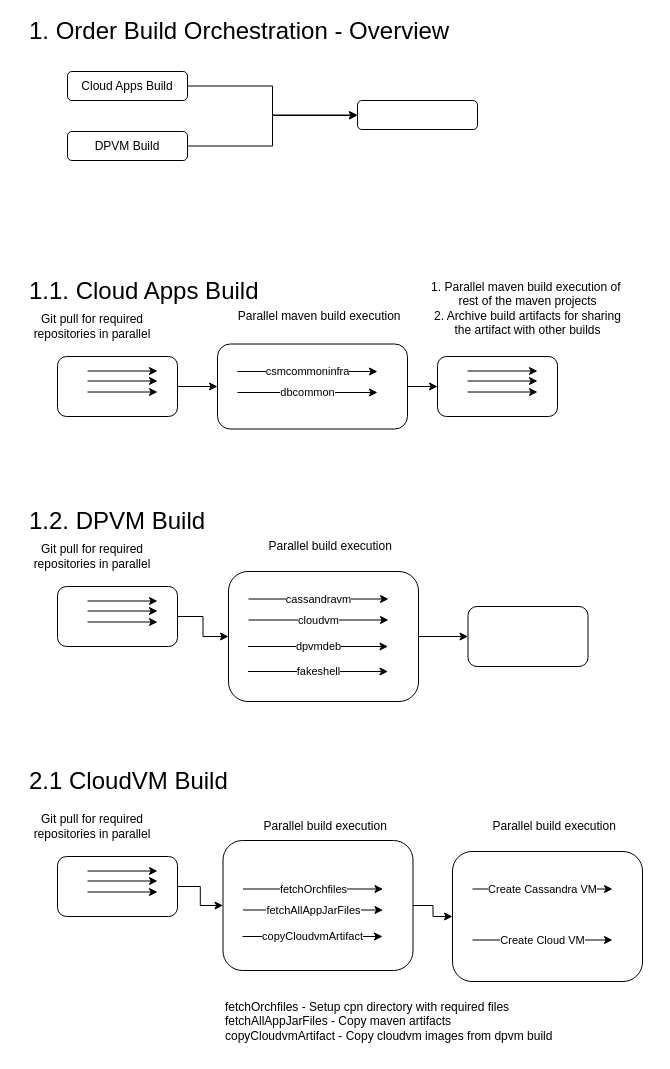
The diagram is 670 pixels wide and 1069 high, and some of its shapes have lost their labels. Each missing label, with the box of its shape:
CloudVm Build: (356, 100, 478, 130)
DPVM Image Build: (467, 606, 588, 666)
